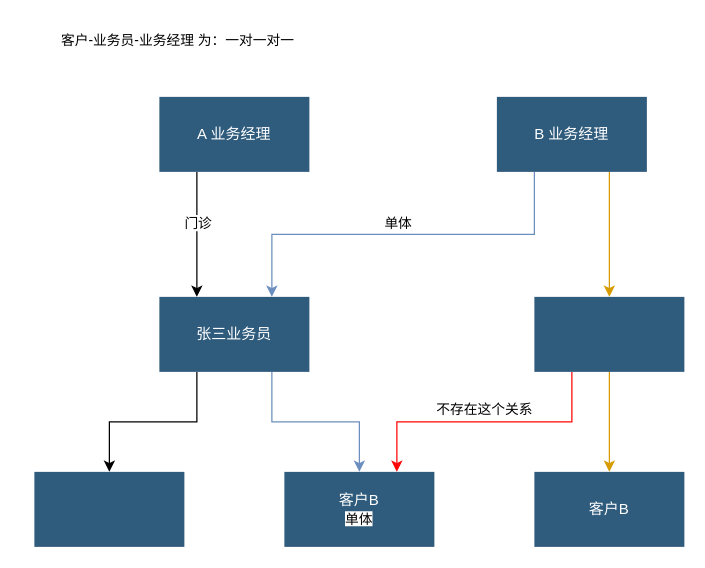
Image size: 705x568. Some labels were removed from this diagram. Each missing label, with the centre of its shape:
"客户A 门诊" belongs at point 109,508.
"李四业务员" belongs at point 609,333.
